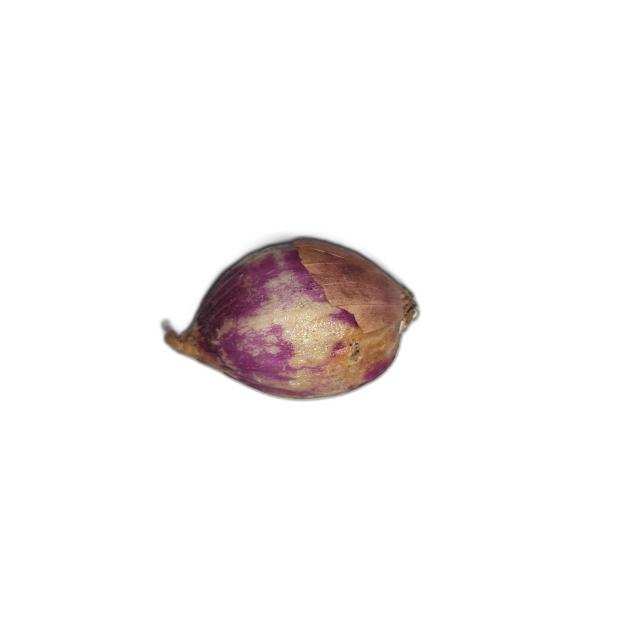onion: (162, 237, 420, 400)
